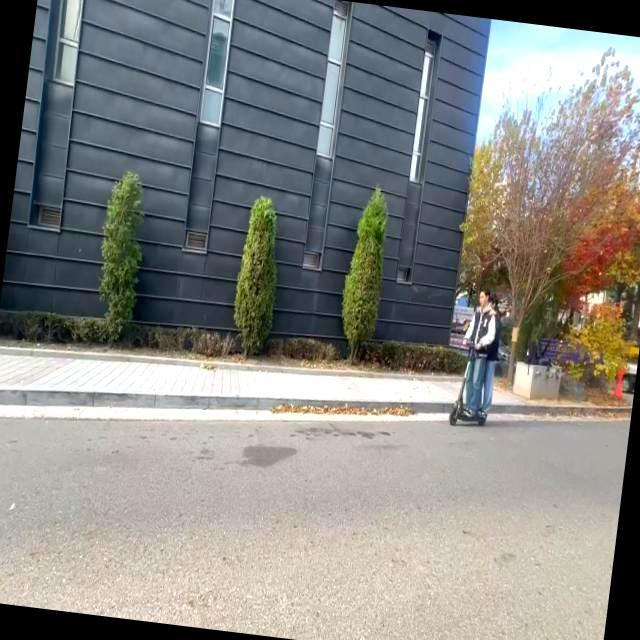bare_head: (485, 294, 500, 312), (477, 288, 490, 307)
human: (458, 289, 493, 416), (473, 294, 503, 416)
kickboard: (443, 402, 489, 426)
